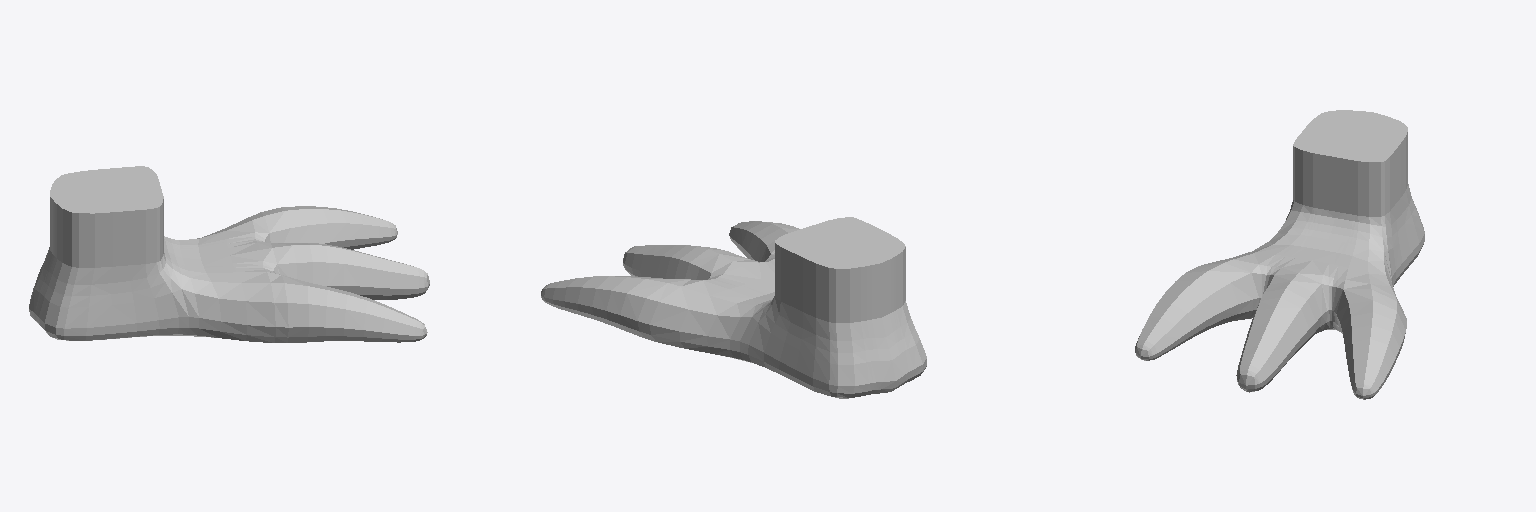
The model's file is Cabo_Pata_Derecha.obj.
3 renders of one model, left to right at view 1: azimuth 30°, elevation 25°; view 2: azimuth 150°, elevation 25°; view 3: azimuth 270°, elevation 25°, orthographic.
Parts seen in each view (by area): view 1: Cabo_Pata_Derecha; view 2: Cabo_Pata_Derecha; view 3: Cabo_Pata_Derecha.
Boxes of the visible parts, x1=… form: Cabo_Pata_Derecha: x1=29, y1=166, x2=429, y2=342; Cabo_Pata_Derecha: x1=541, y1=217, x2=926, y2=398; Cabo_Pata_Derecha: x1=1135, y1=110, x2=1424, y2=399.
Size of the model in its own units: 4.05 by 1.39 by 2.78.